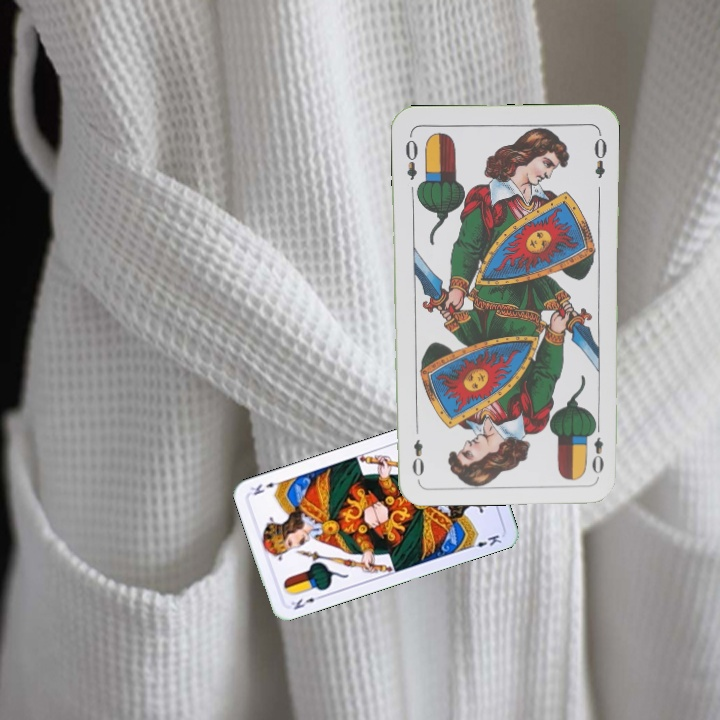EK: (287, 591, 325, 612)
EO: (587, 419, 606, 477), (401, 130, 421, 182)
